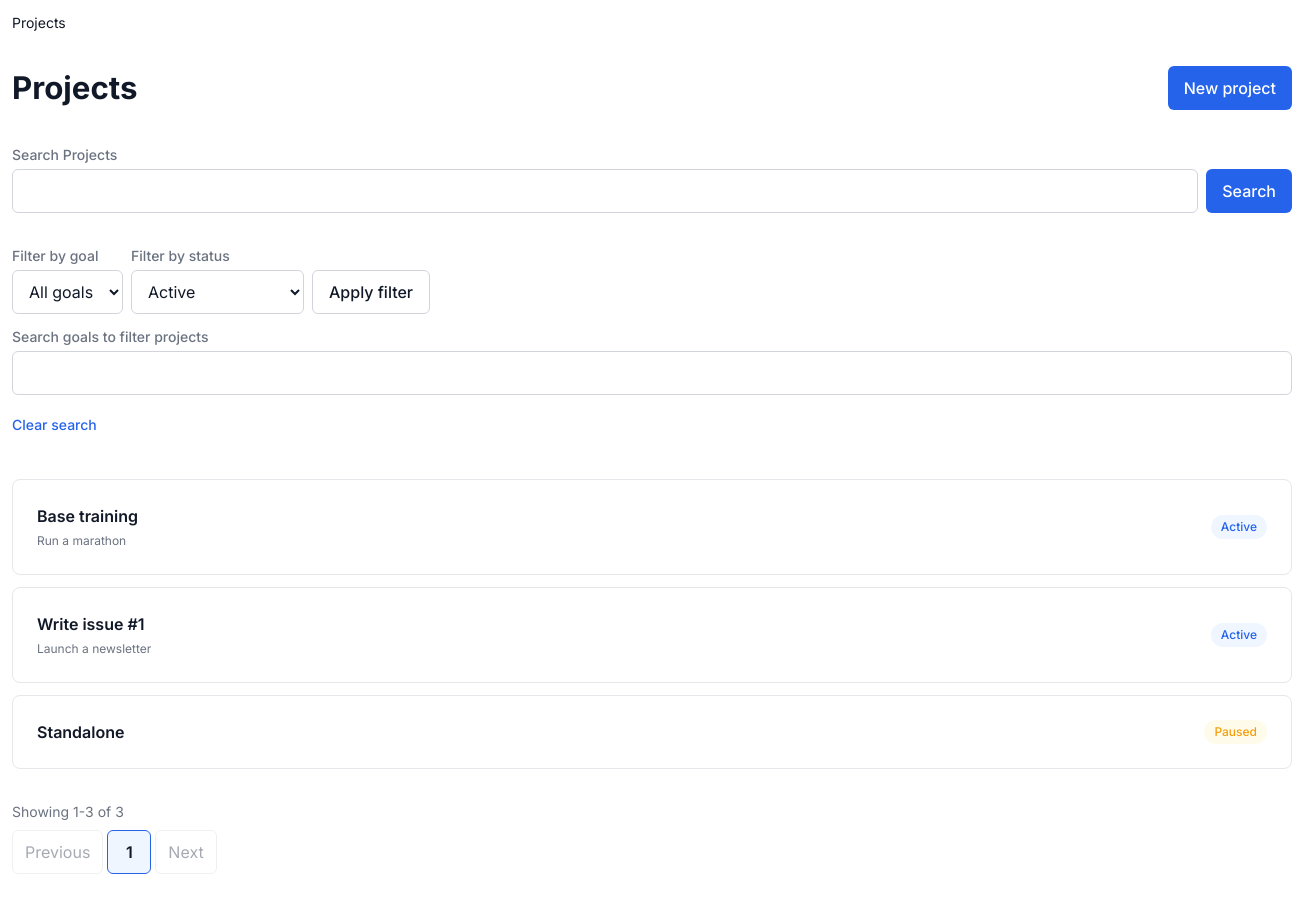
Test: ProjectsPage › loads further goal batches with a stable ID cursor so every goal can be searched
The width and height of the screenshot is (1304, 912).
Focus the dropdown labelled "Search goals to filter projects" at (652, 373), box 12,351 -> 1292,395
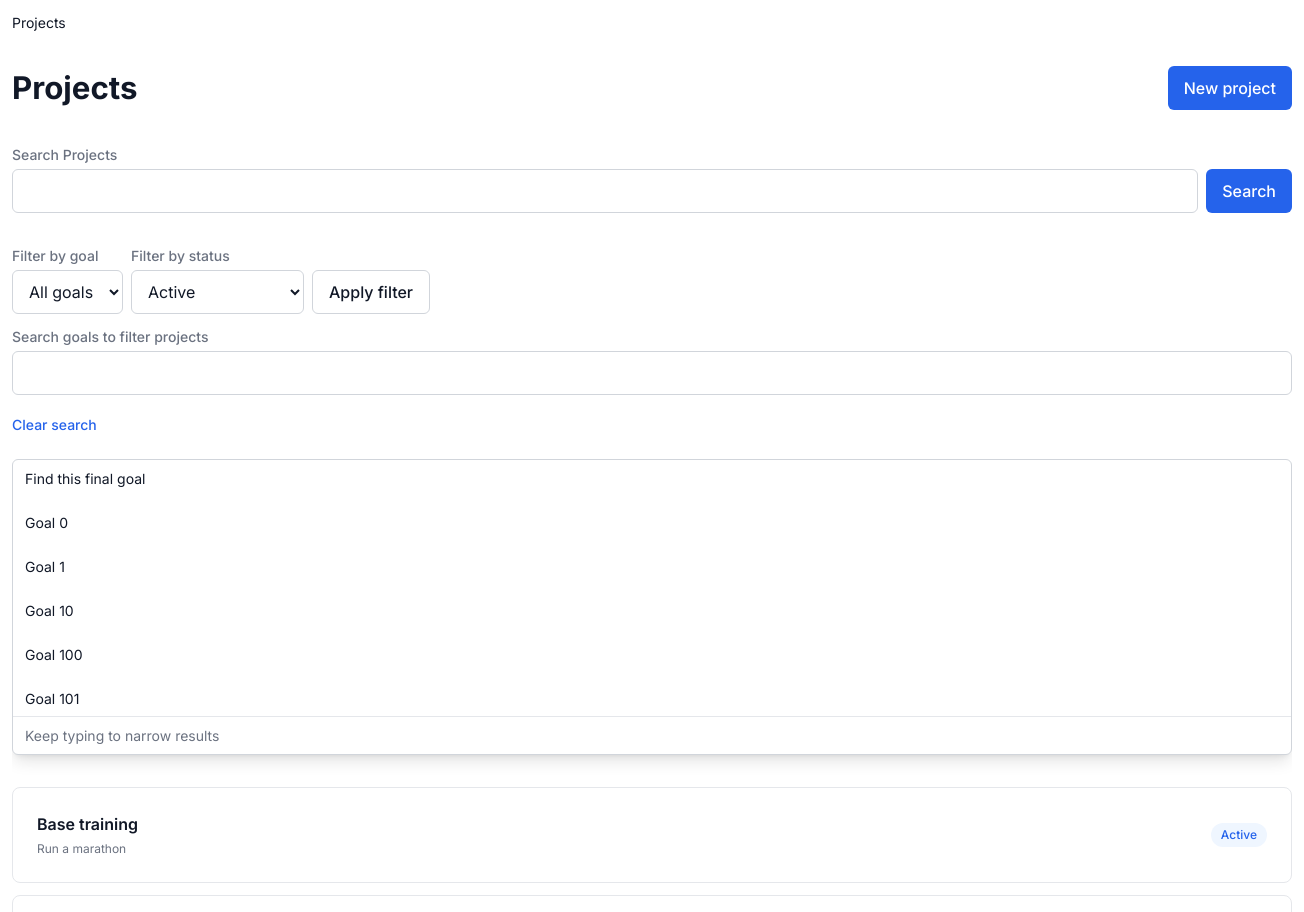
expect the option "Find this final goal" is shown: met, box 25,470 -> 145,487
